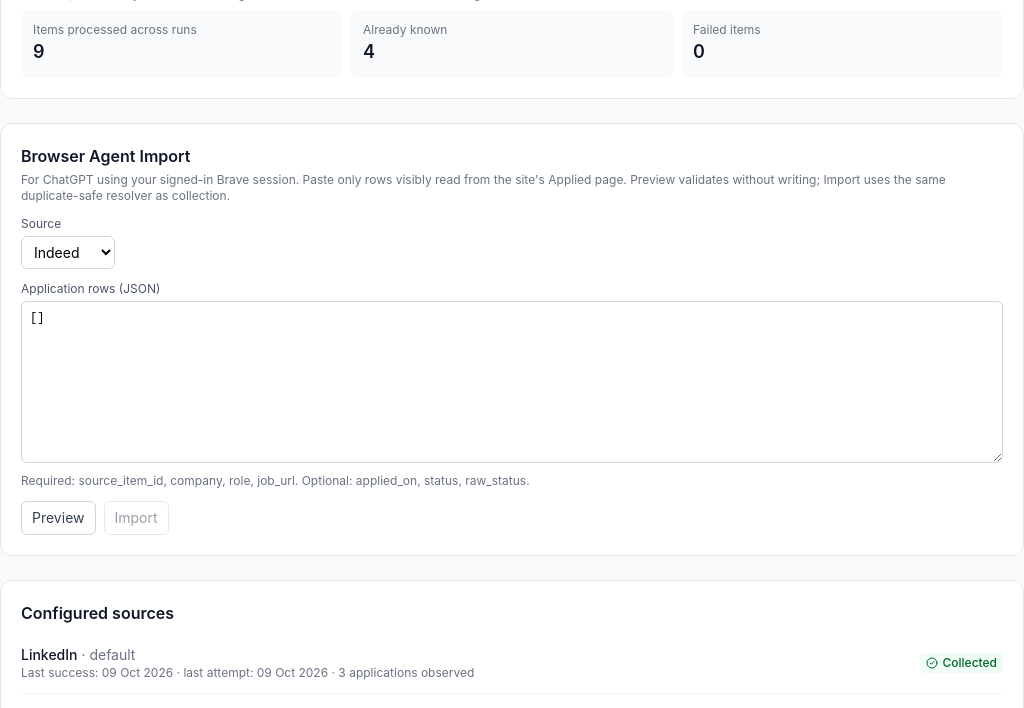
SourcesPanel › does not enable browser import until server preview succeeds
The image size is (1024, 708).
(page scrolled)
Expected: the heading "Configured sources" is shown, left=21, top=603, right=174, bottom=623
Expected: the button "Import" is disabled, left=104, top=501, right=169, bottom=535
Replace the text in the text box labelled "Application rows (JSON)" with "not-json": {"x": 512, "y": 382} left=21, top=301, right=1003, bottom=463
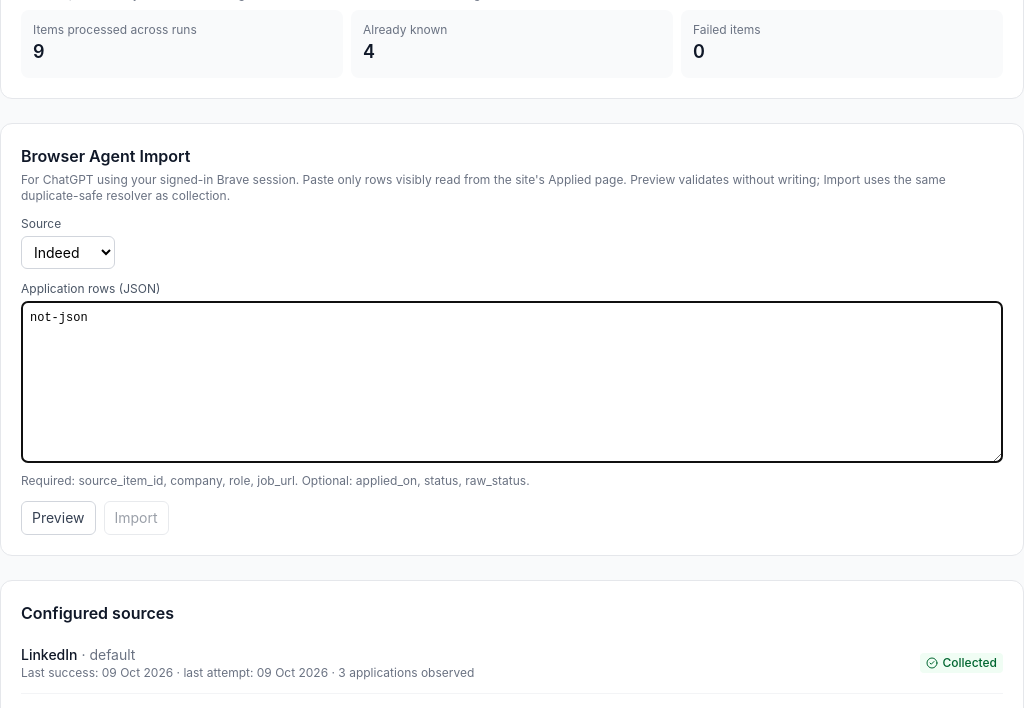
Click the button "Preview": {"x": 58, "y": 518} left=21, top=501, right=96, bottom=535
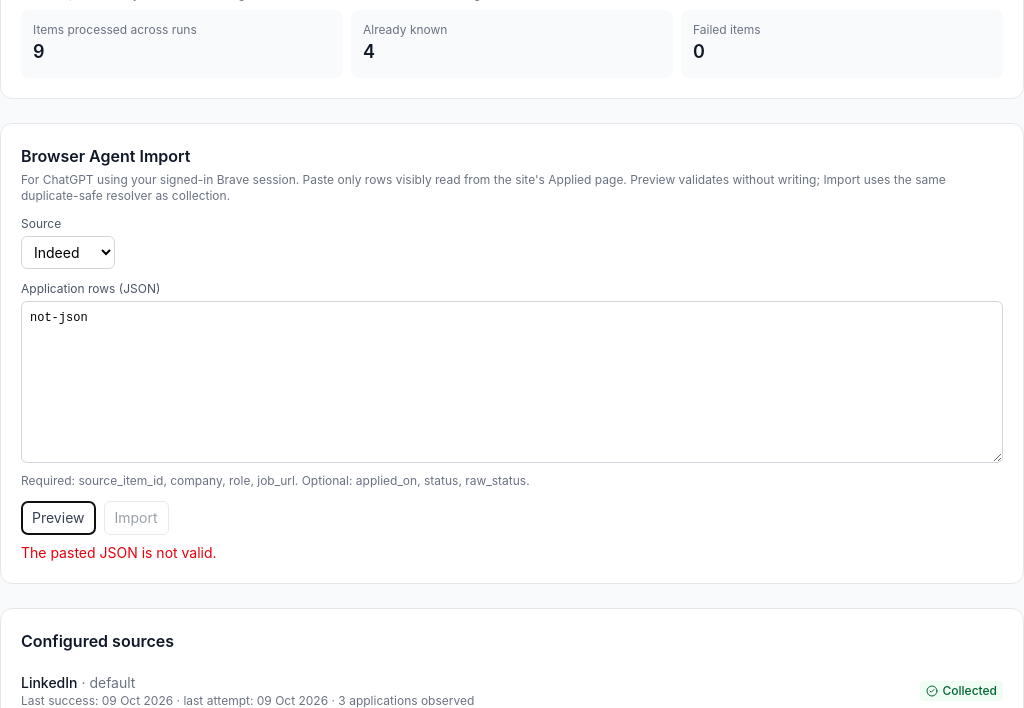
Expected: the message shows "not valid", left=21, top=544, right=217, bottom=561
